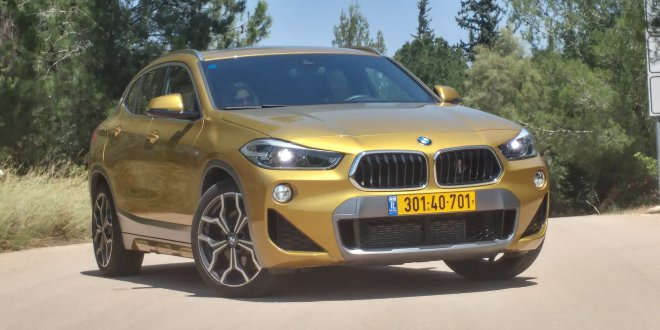licence: (387, 190, 477, 217)
